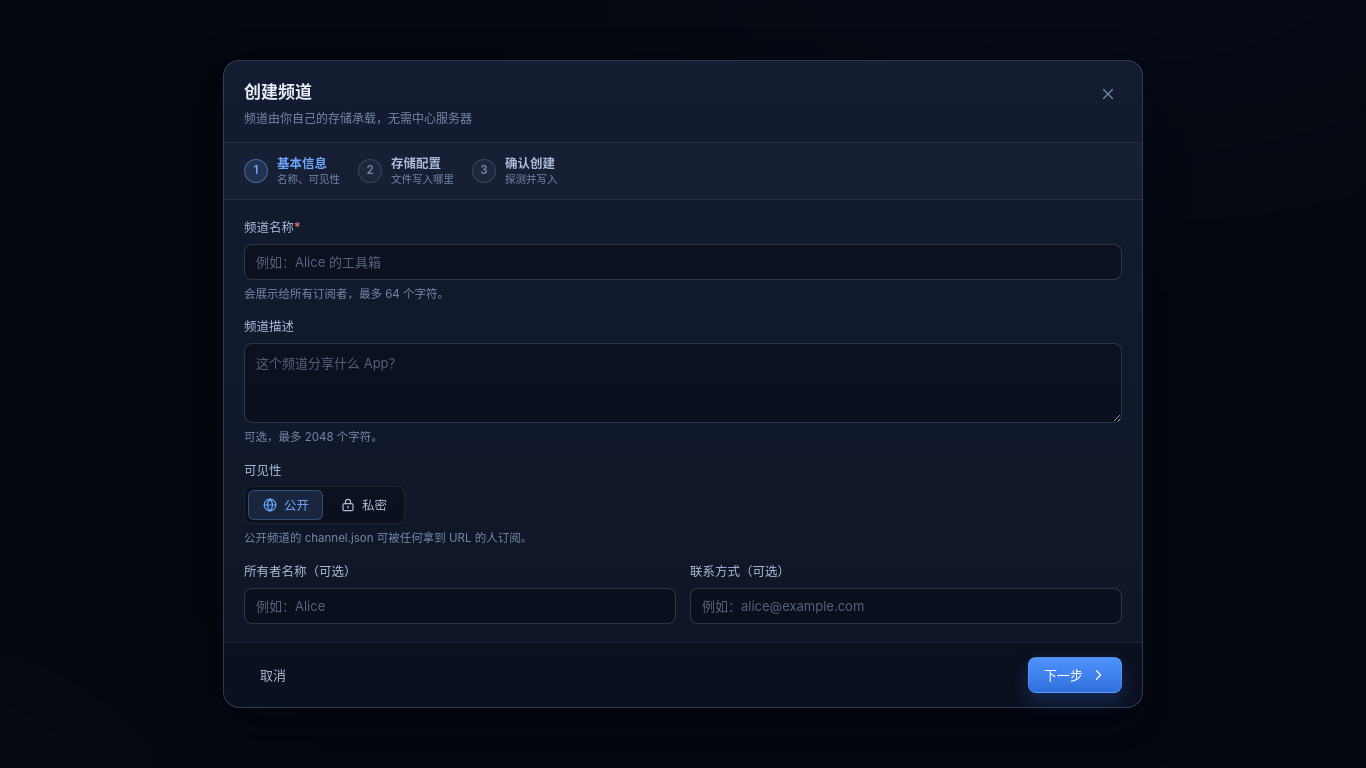
Test: 创建频道向导 › 切换存储 provider 时渲染对应字段，并解释私密频道能力链接
The width and height of the screenshot is (1366, 768).
Type "测试频道" into the field with test id "create-channel-name". click: [683, 262]
box: [244,244,1122,280]
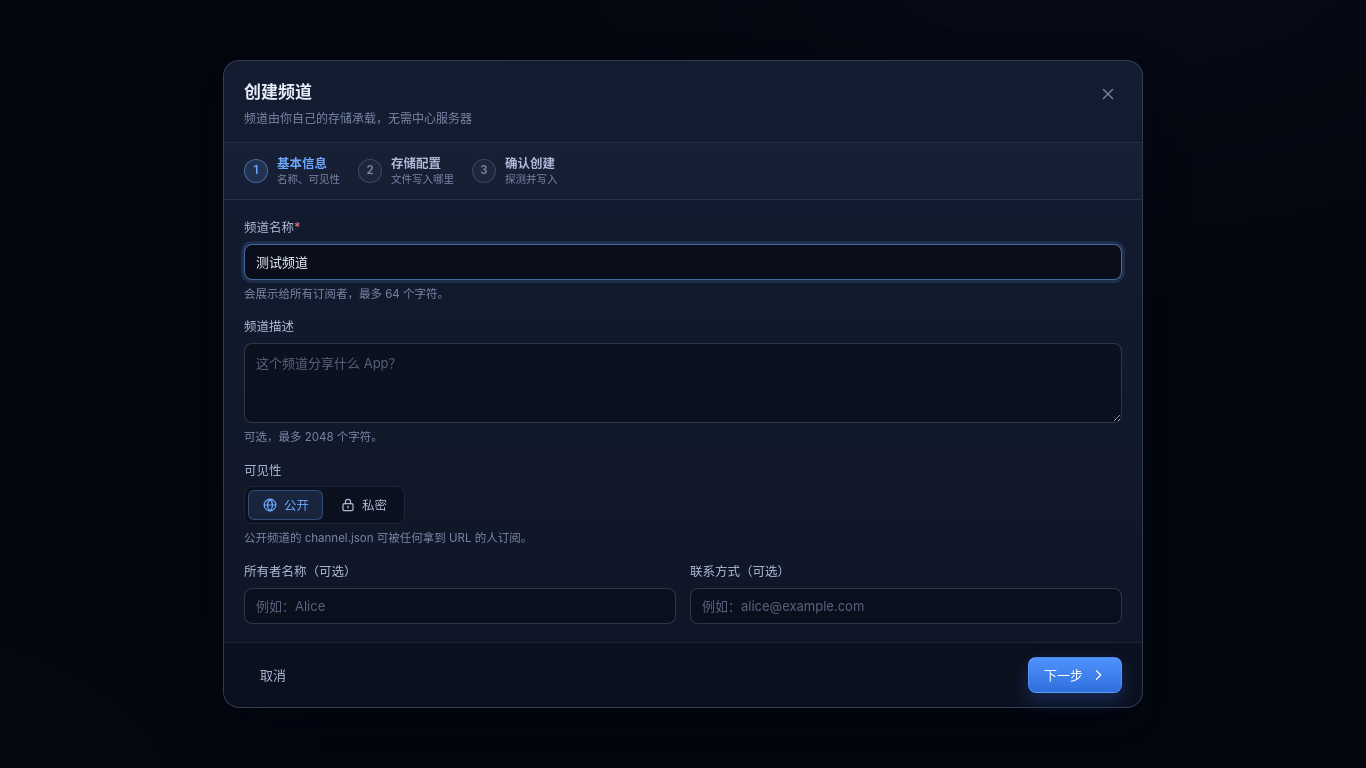
Click the button with test id "create-channel-next". click: [1075, 675]
box: [1028,657,1122,693]
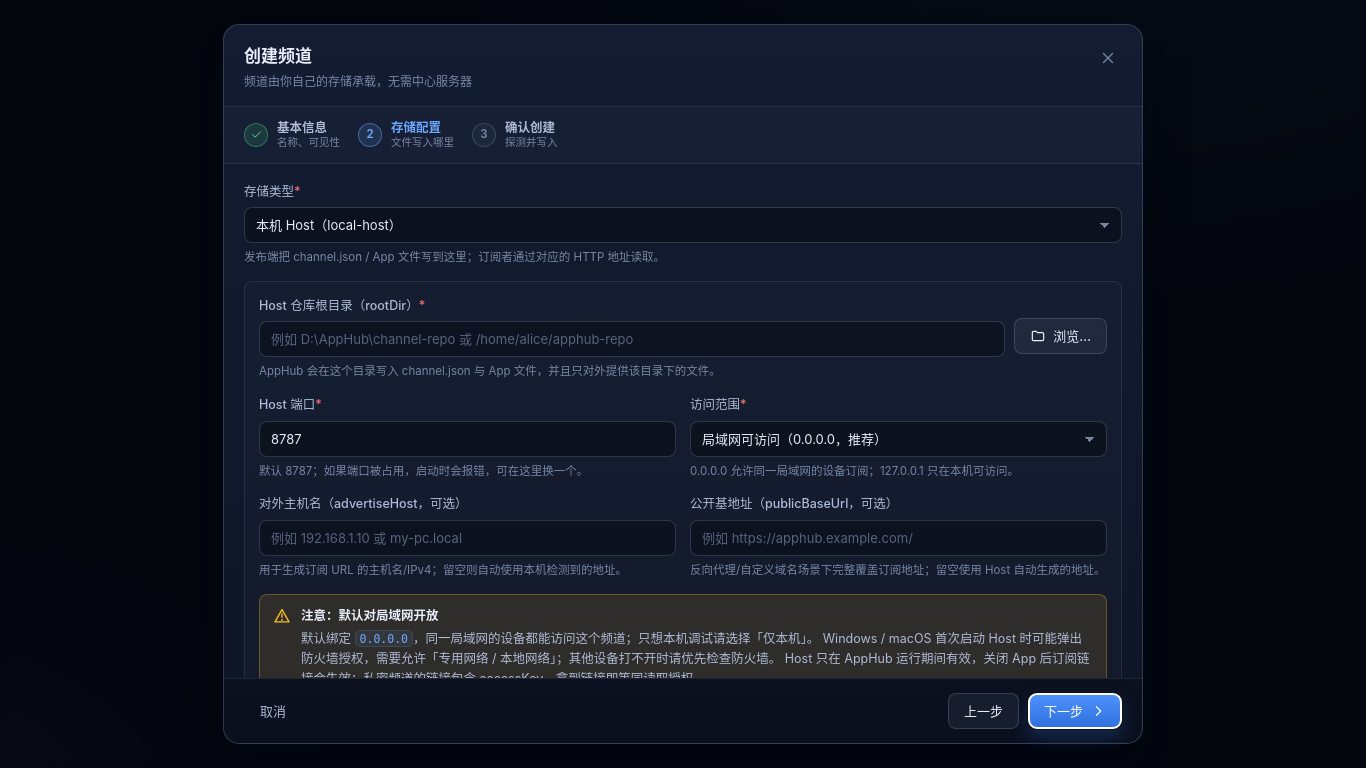
Expected: the field labelled "FTP 主机" is not shown
Expected: the dropdown with test id "storage-provider-select" is shown
Expected: the field with test id "local-host-root-dir" is shown, [259,321,1005,357]
Select "FTP + HTTP（ftp-http）" in the dropdown with test id "storage-provider-select". click: [683, 225]
box: [244,207,1122,243]
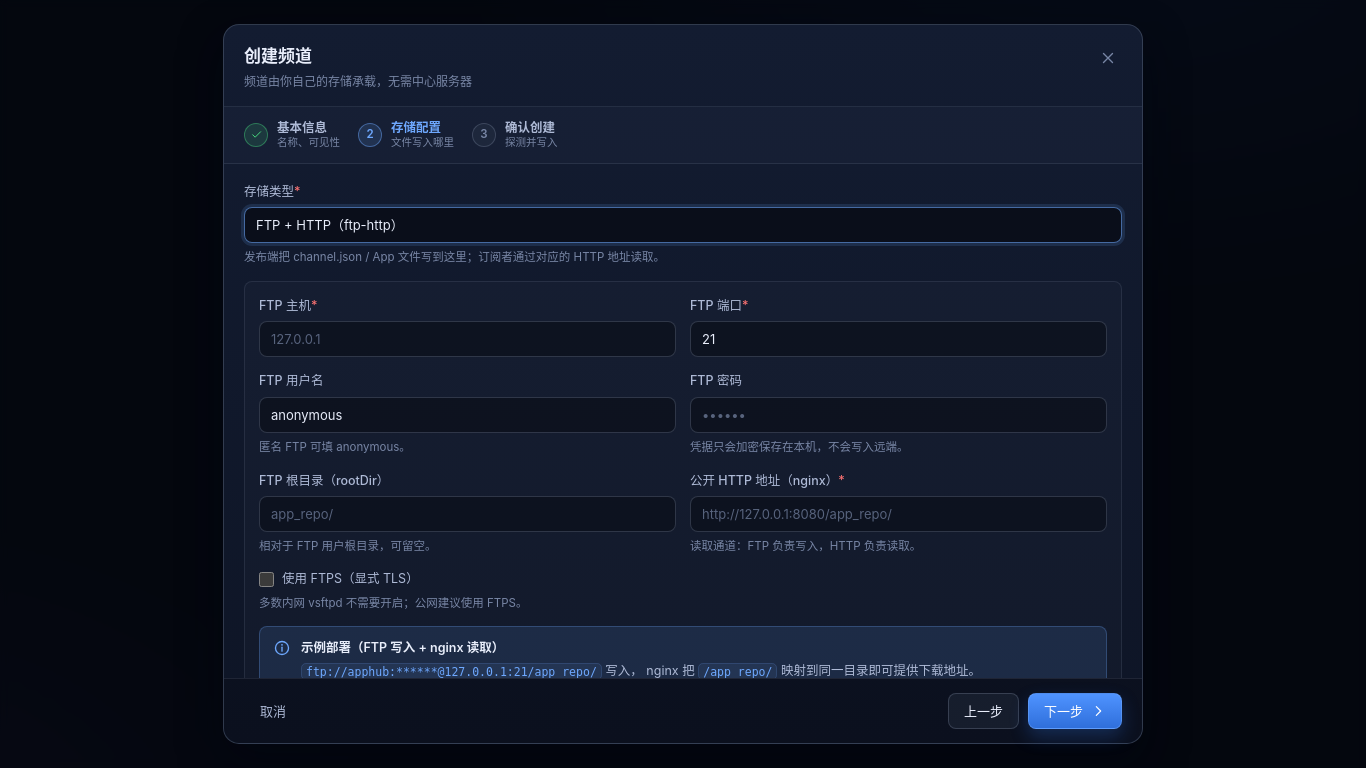
Expected: the field labelled "FTP 主机 *" is shown, [259,321,676,357]
Expected: the field with test id "local-host-root-dir" is gone
Select "本地目录（local）" in the dropdown with test id "storage-provider-select". click: [683, 225]
box: [244,207,1122,243]
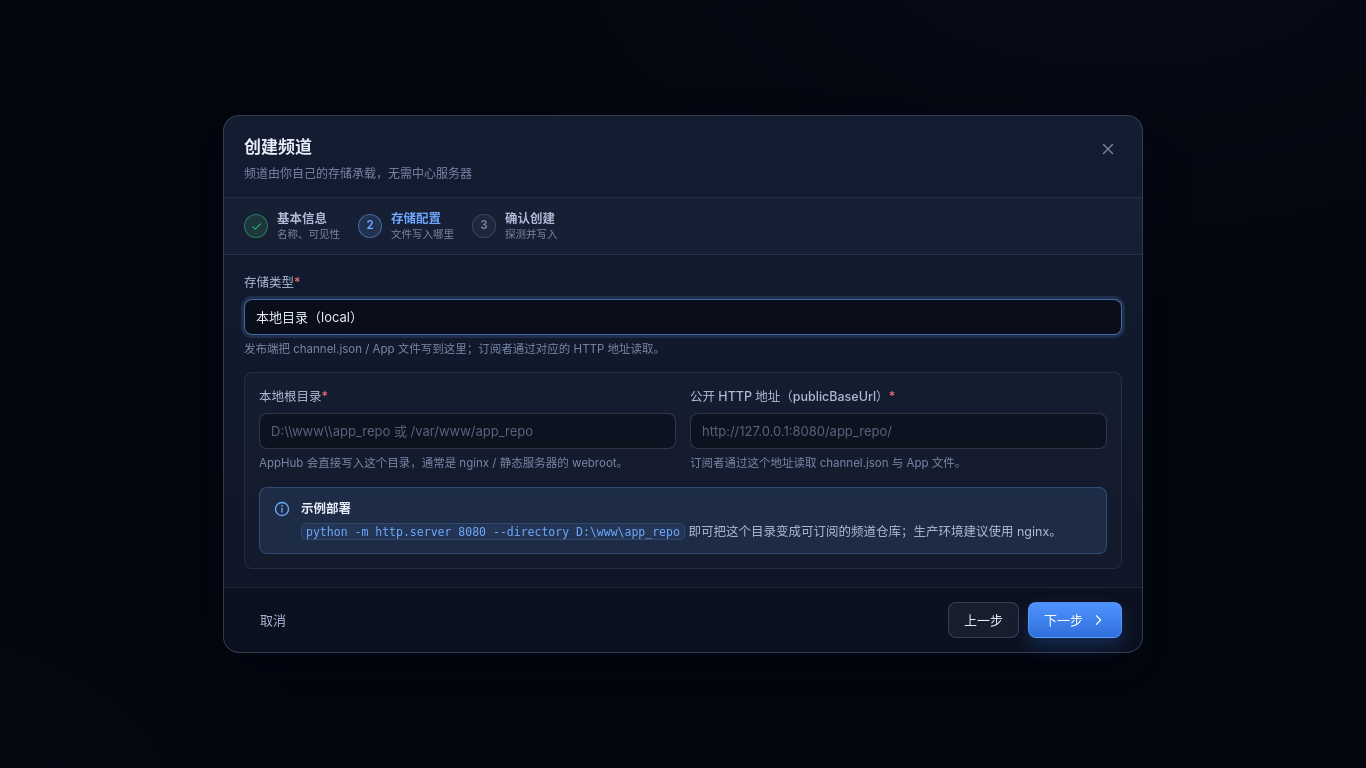
Expected: the field labelled "本地根目录 *" is shown, [259,413,676,449]
Expected: the label labelled "FTP 主机" is gone
Select "S3 / MinIO（s3）" in the dropdown with test id "storage-provider-select". click: [683, 317]
box: [244,299,1122,335]
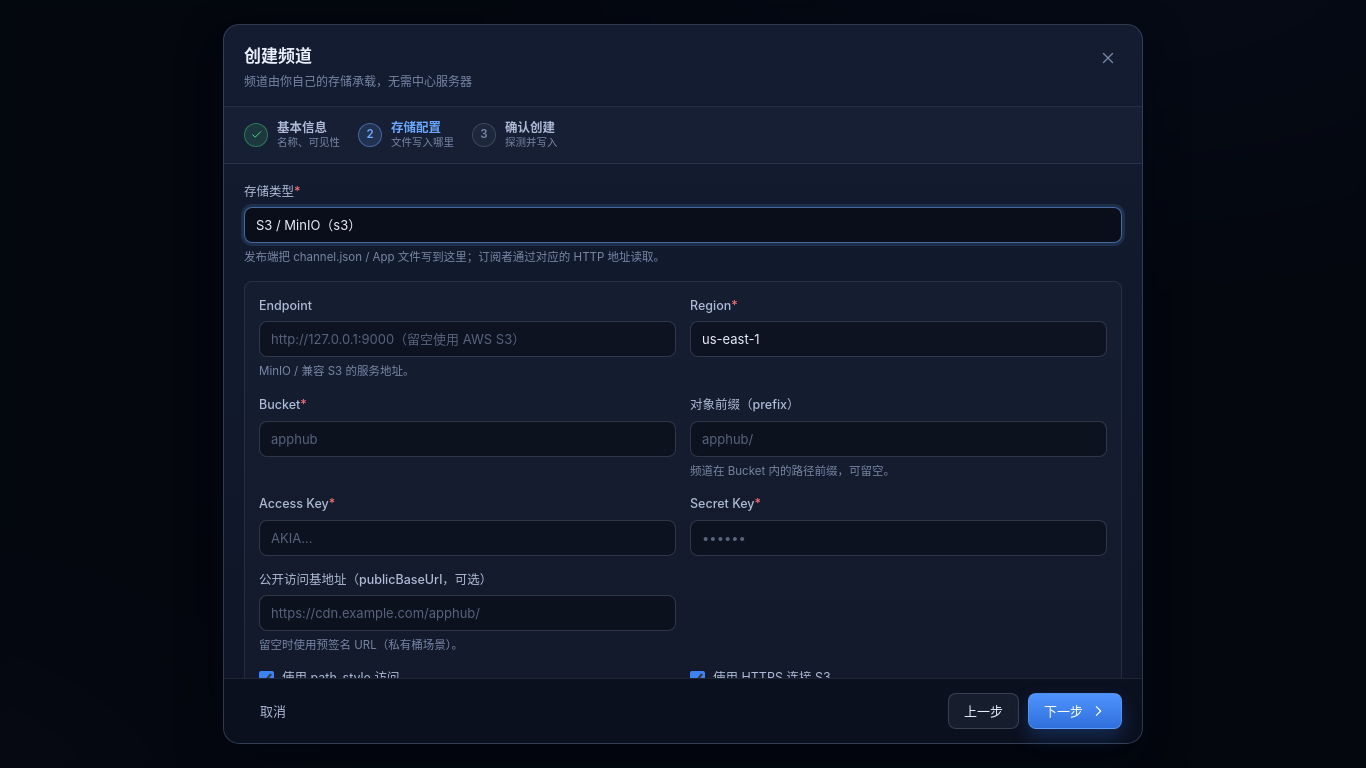
Expected: the field labelled "Bucket *" is shown, [259,421,676,457]
Expected: the field labelled "Access Key *" is shown, [259,520,676,556]
Expected: the label labelled "本地根目录" is gone
